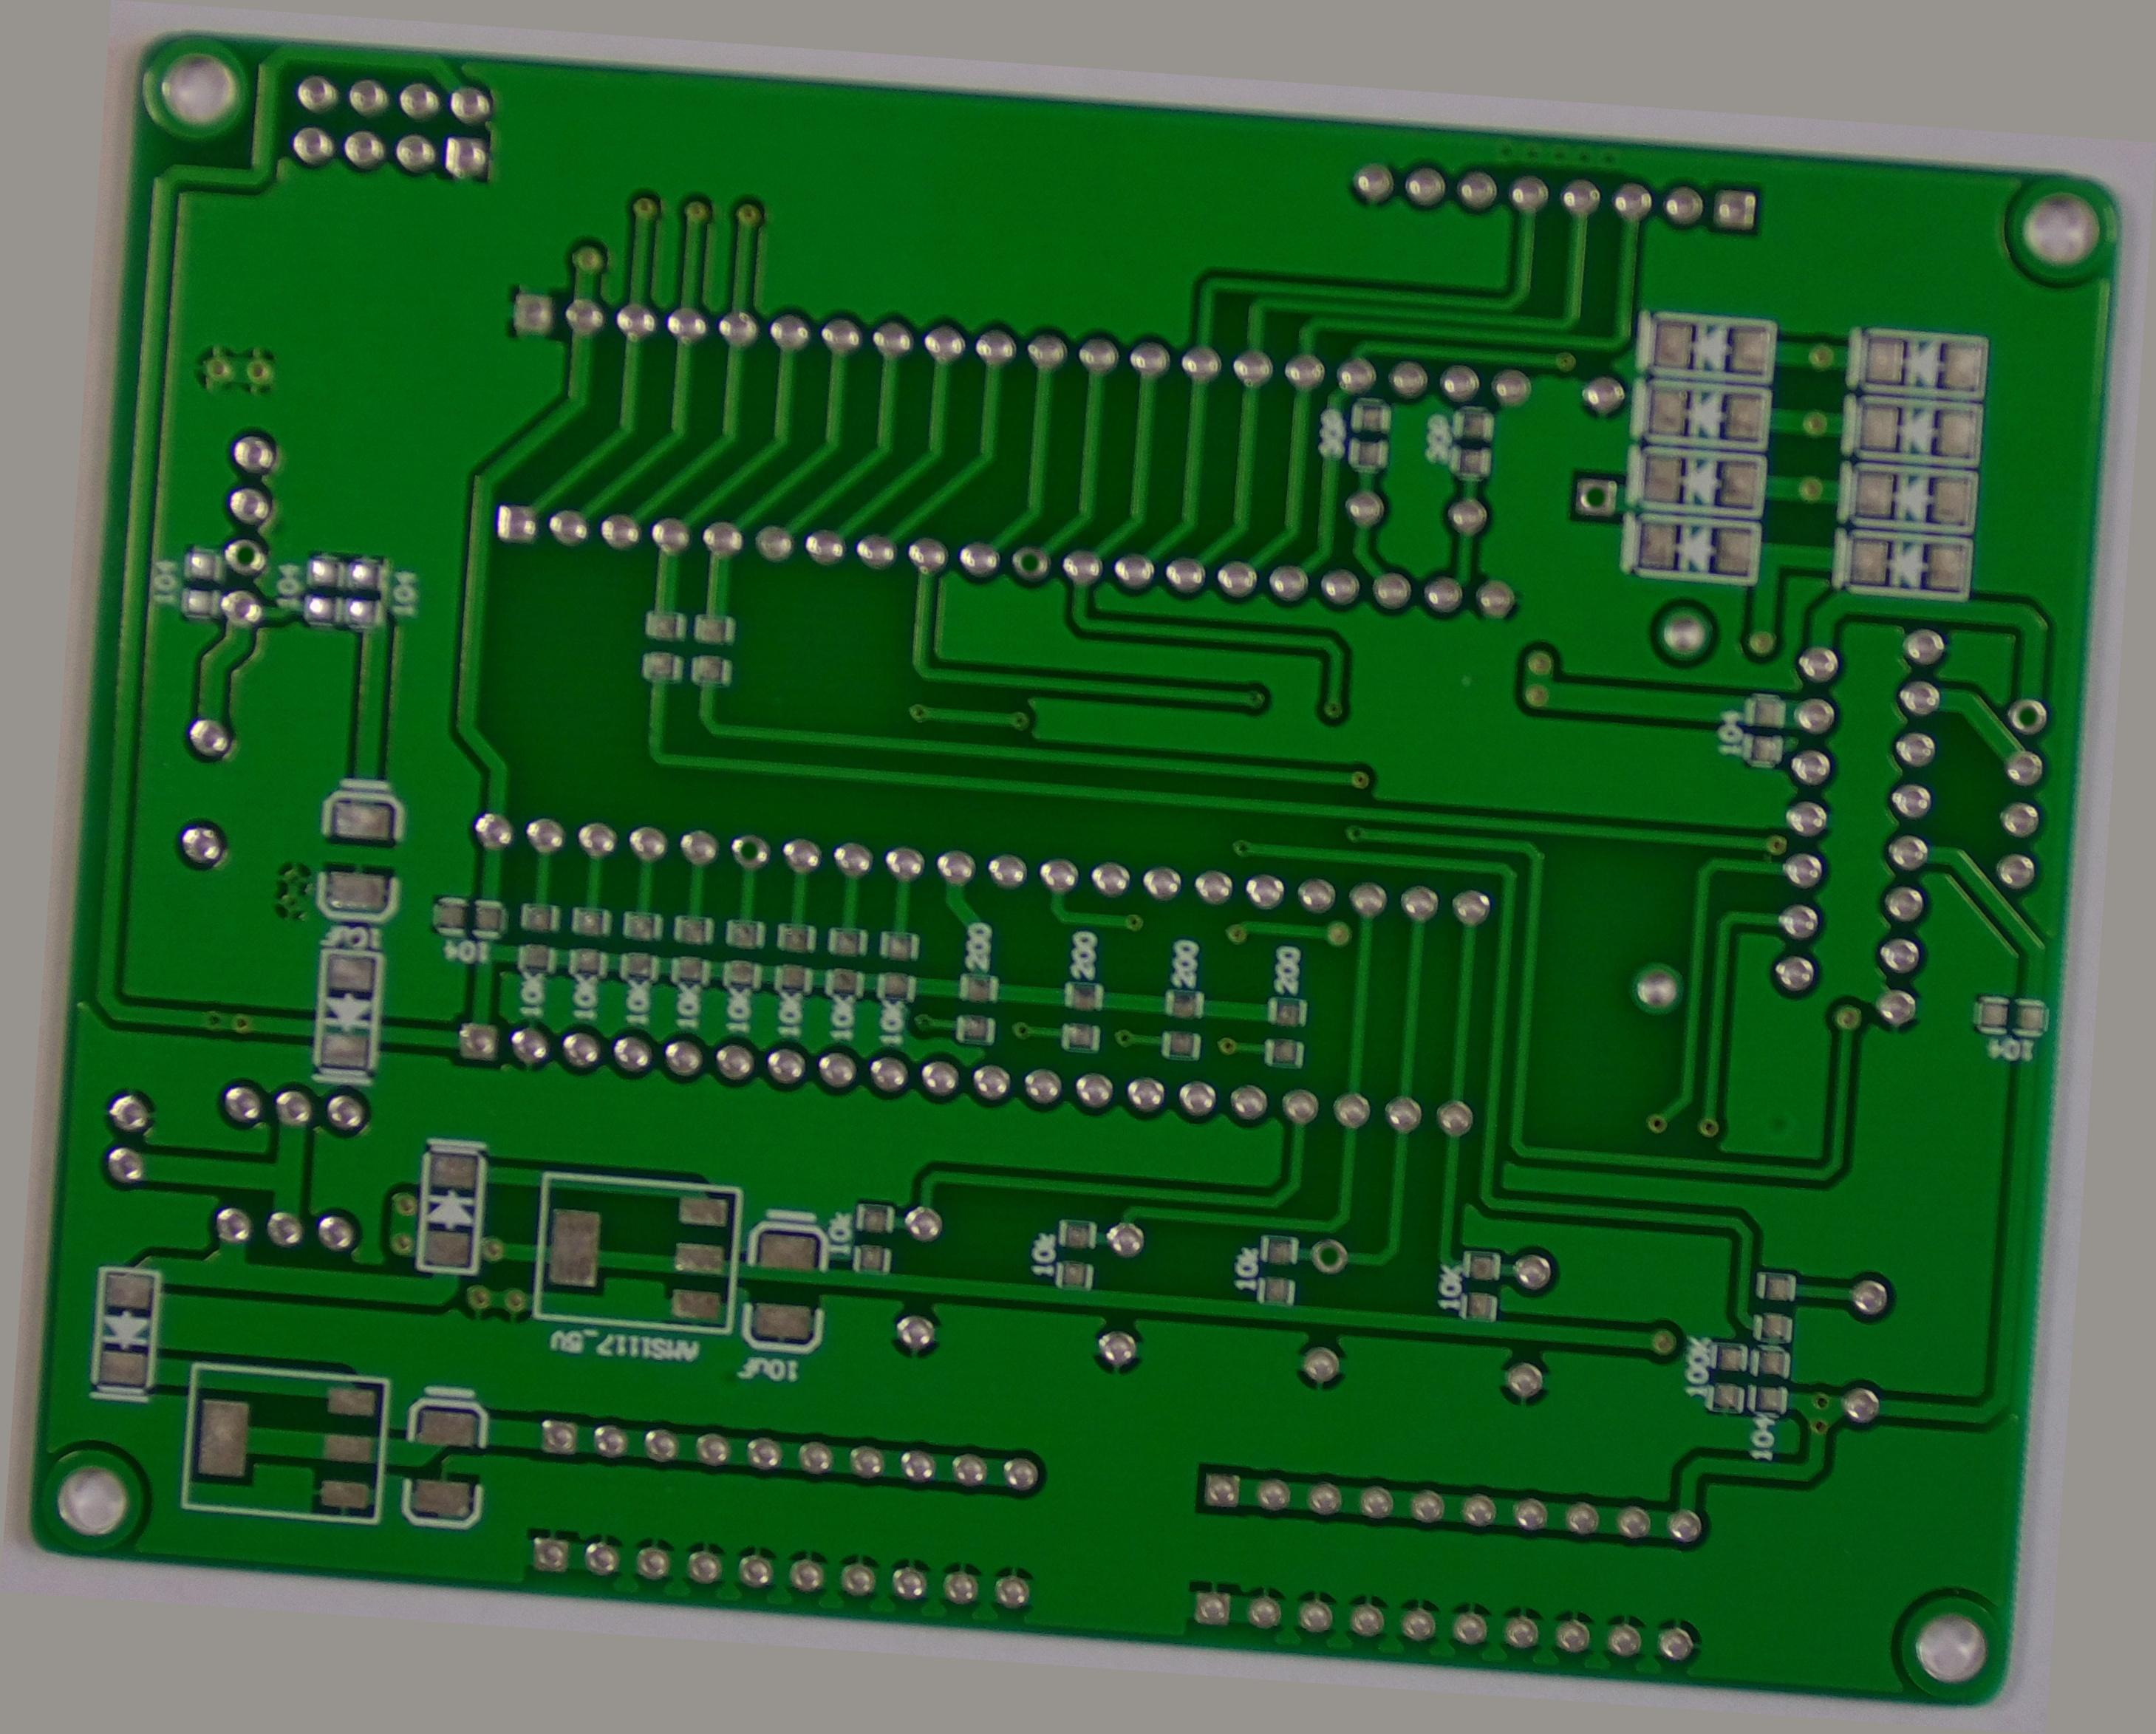missing_hole: (2039, 605, 2089, 656), (156, 570, 205, 616), (982, 517, 1029, 559), (1346, 1249, 1390, 1293), (1572, 403, 1615, 446)
